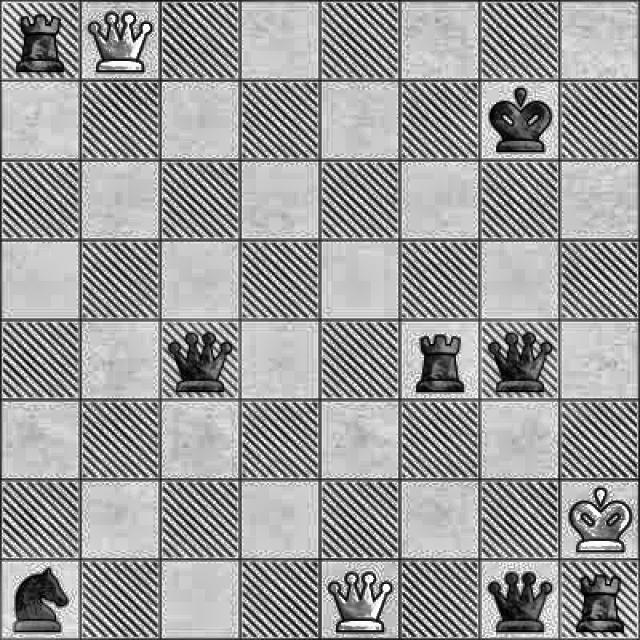Black Knight: (8, 562, 76, 640)
black king: (488, 86, 556, 154)
black queen: (487, 326, 558, 396), (166, 324, 234, 396), (488, 561, 552, 636)
black rook: (408, 324, 469, 398), (572, 576, 630, 638), (13, 12, 66, 79)
white king: (561, 483, 637, 555)
white queen: (84, 5, 158, 80), (324, 568, 392, 640)
